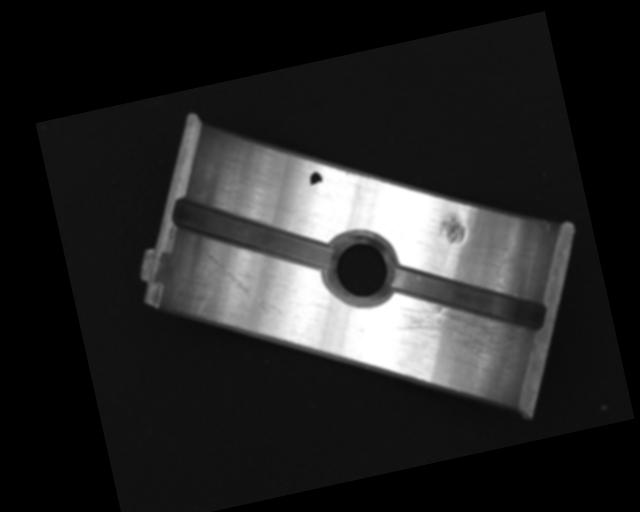blot: (307, 169, 324, 187)
bruise: (436, 213, 467, 247)
gap: (167, 169, 334, 298), (388, 241, 550, 359)
hole: (318, 224, 403, 315)
nick: (202, 236, 283, 329)
scratch: (371, 280, 534, 406)
